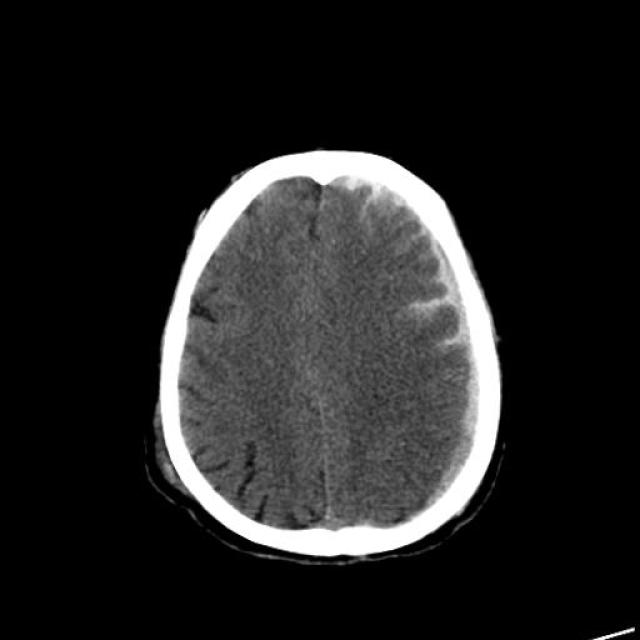Subarachnoid: (384, 228, 477, 372), (331, 176, 424, 230)
Subdural: (377, 357, 497, 523)
